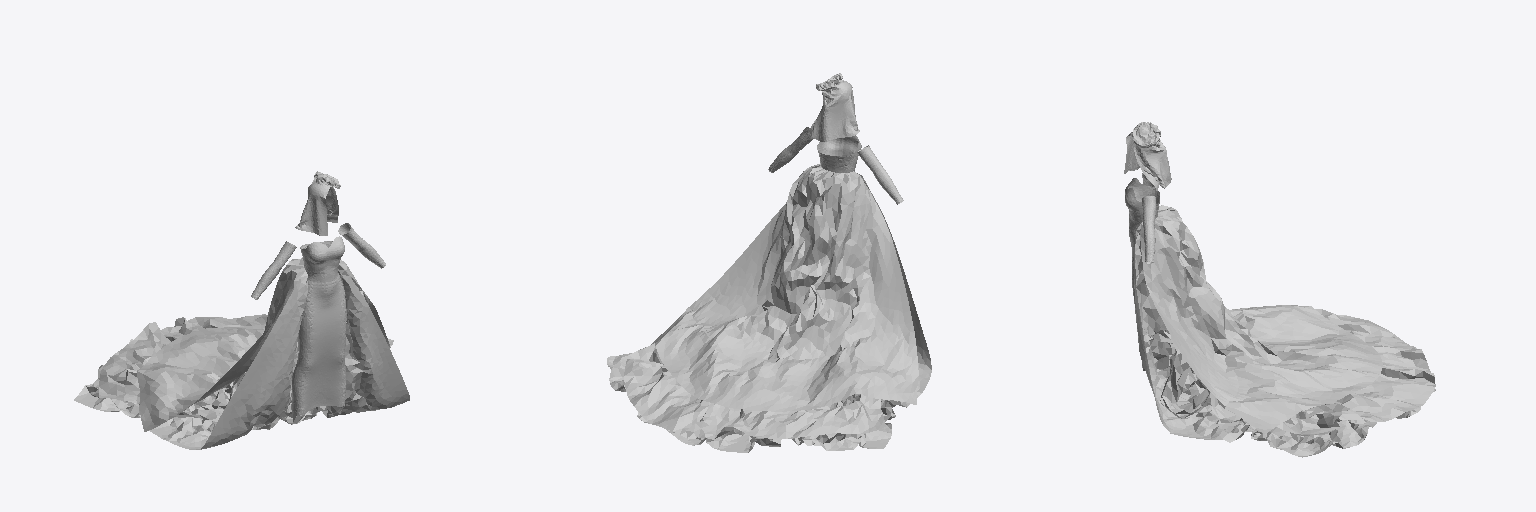
The model's file is wedding_dress_ver_1.obj.
3 renders of one model, left to right at view 1: azimuth 30°, elevation 25°; view 2: azimuth 150°, elevation 25°; view 3: azimuth 270°, elevation 25°, orthographic.
Parts seen in each view (by area): view 1: Cloth_Shape; view 2: Cloth_Shape; view 3: Cloth_Shape.
Boxes of the visible parts, x1,y1,x2,y2 form: Cloth_Shape: [74, 171, 409, 449]; Cloth_Shape: [607, 73, 931, 452]; Cloth_Shape: [1124, 122, 1435, 457].
Size of the model in its own units: 2284 by 1938 by 2071.